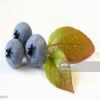Blueberry leaf: (46, 23, 97, 67), (44, 51, 77, 96)
